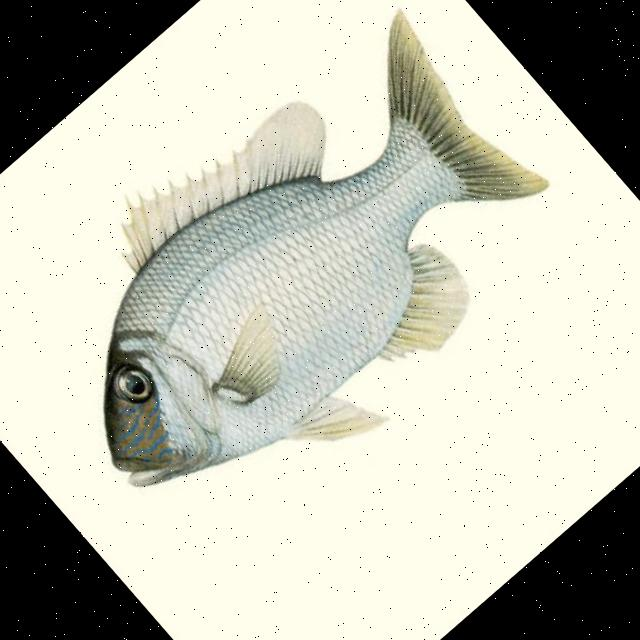ikan: (0, 0, 601, 577)
